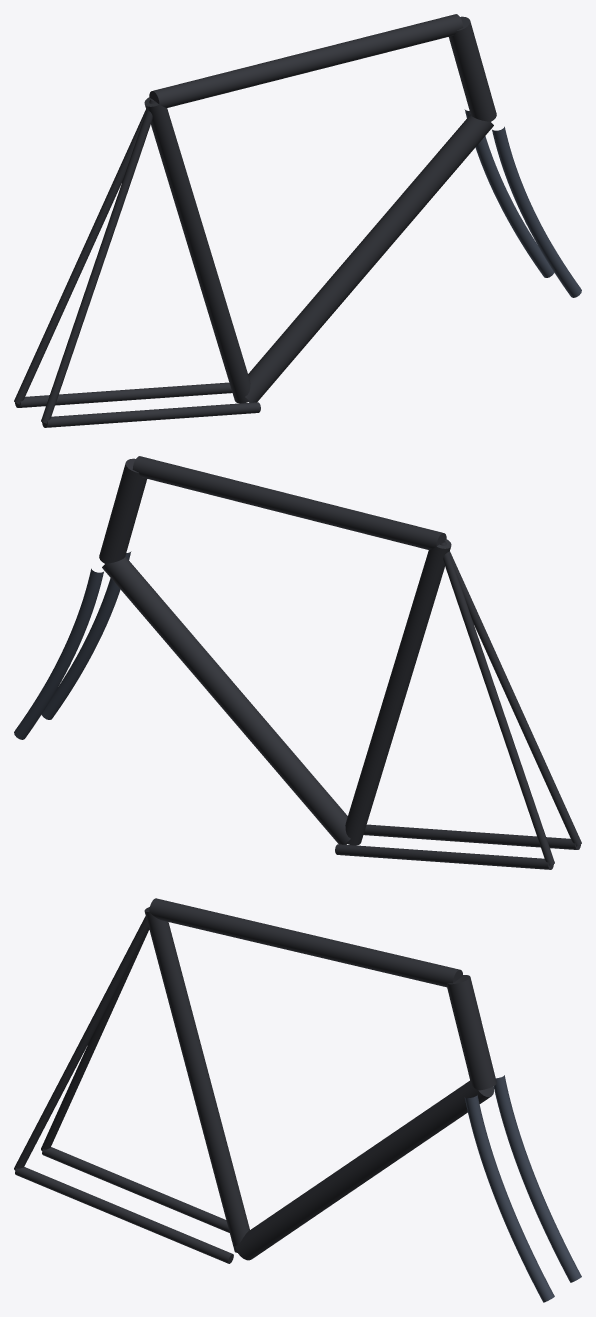
Rendered from state-black-label-v3-61.glb.
The picture shows the model from 3 angles, top to bottom: view 1: azimuth 30°, elevation 25°; view 2: azimuth 150°, elevation 25°; view 3: azimuth 330°, elevation 25°; orthographic projection.
Parts seen in each view (by area): view 1: paint_down, paint_top, paint_seat, paint_seatstay_0.045, paint_seatstay_-0.045, fork_0.045, paint_head, paint_chainstay_0.045, paint_chainstay_-0.045, fork_-0.045; view 2: paint_down, paint_top, paint_seat, paint_seatstay_-0.045, paint_seatstay_0.045, fork_-0.045, paint_head, paint_chainstay_-0.045, paint_chainstay_0.045, fork_0.045; view 3: paint_down, paint_seat, paint_top, fork_0.045, fork_-0.045, paint_head, paint_chainstay_0.045, paint_seatstay_0.045, paint_chainstay_-0.045, paint_seatstay_-0.045.
Part boxes in pixels (x1,y1,x2,y2): paint_down: (245,114,493,402); paint_top: (149,14,463,107); paint_seat: (144,97,250,403); paint_seatstay_0.045: (41,100,156,423); paint_seatstay_-0.045: (14,99,153,404); fork_0.045: (492,126,581,297); paint_head: (449,16,496,121); paint_chainstay_0.045: (42,402,260,427); paint_chainstay_-0.045: (15,382,232,407); fork_-0.045: (464,109,554,277); paint_down: (102,556,350,844); paint_top: (132,456,446,549); paint_seat: (345,539,451,845); paint_seatstay_-0.045: (439,542,554,865); paint_seatstay_0.045: (442,541,581,846); fork_-0.045: (14,568,103,739); paint_head: (99,458,146,563); paint_chainstay_-0.045: (335,844,553,869); paint_chainstay_0.045: (363,824,580,849); fork_0.045: (41,551,131,719); paint_down: (235,1080,493,1260); paint_seat: (144,907,249,1252); paint_top: (149,898,463,987); fork_0.045: (464,1095,554,1302); fork_-0.045: (493,1075,581,1282); paint_head: (447,975,496,1090); paint_chainstay_0.045: (15,1167,233,1263); paint_seatstay_0.045: (14,916,148,1170); paint_chainstay_-0.045: (42,1147,229,1232); paint_seatstay_-0.045: (41,928,149,1150).
Bounding box in the file's own units: 1.04 × 0.6227 × 0.112.
